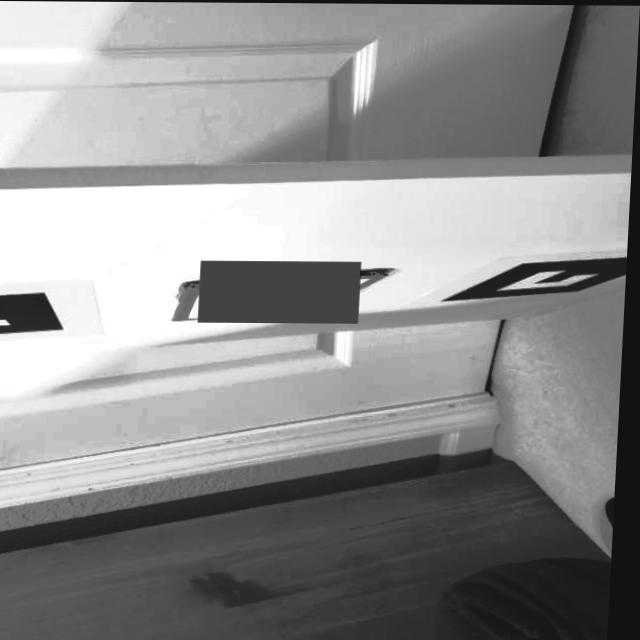qr_code: (201, 259, 364, 322)
